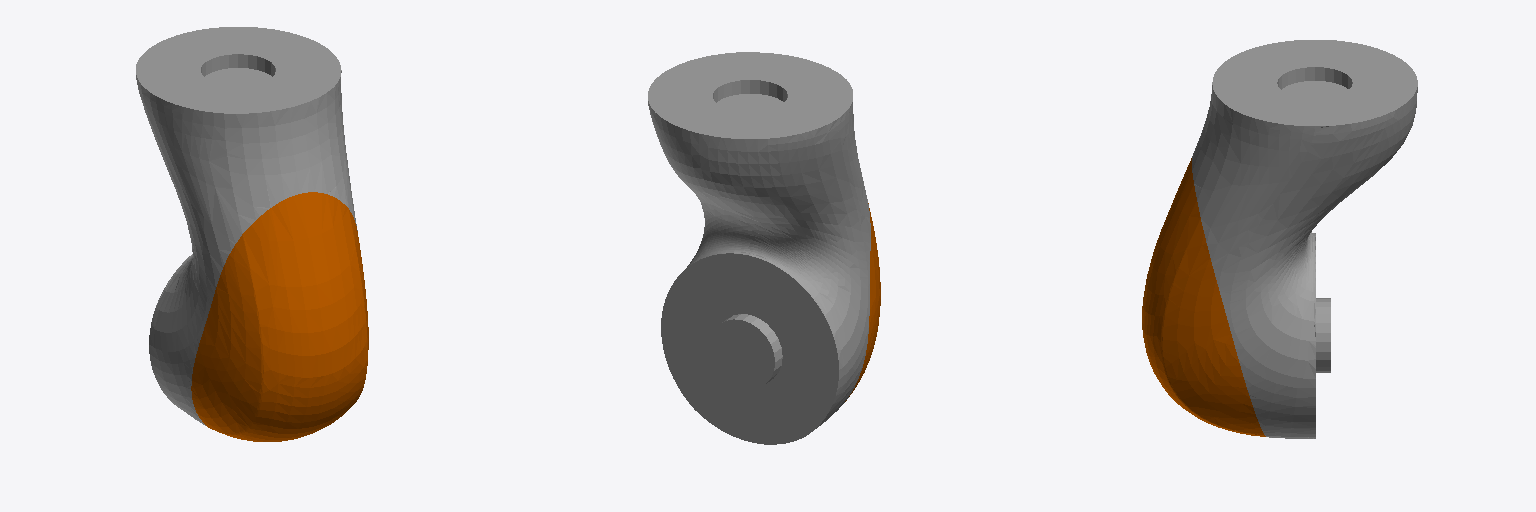
The picture shows the model from 3 angles: view 1: azimuth 30°, elevation 25°; view 2: azimuth 150°, elevation 25°; view 3: azimuth 270°, elevation 25°; orthographic projection.
Visible parts, largest first — view 1: ShapeIndexedFaceSet; view 2: ShapeIndexedFaceSet; view 3: ShapeIndexedFaceSet.
Part boxes in pixels (x1,y1,x2,y2): ShapeIndexedFaceSet: (136,27,368,441); ShapeIndexedFaceSet: (648,52,880,444); ShapeIndexedFaceSet: (1142,40,1417,438).
Size of the model in its own units: 0.136 by 0.2525 by 0.1825.